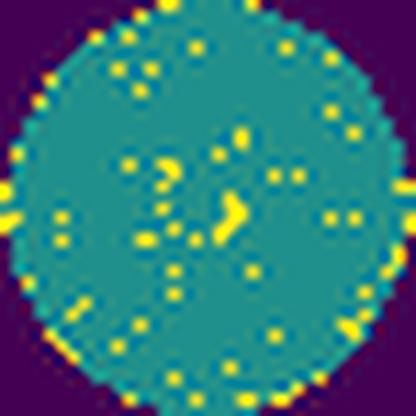Center: (150, 154, 257, 249)
